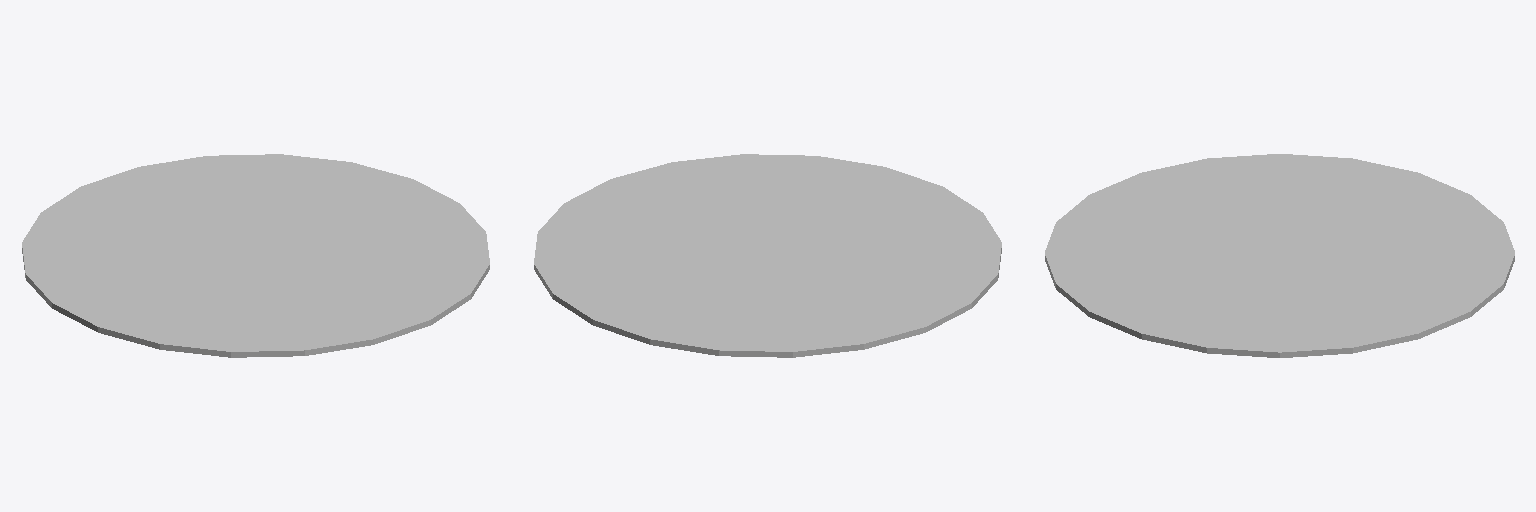
The model's file is InnerGround.obj.
3 views of the same model, side by side, from view 1: azimuth 30°, elevation 25°; view 2: azimuth 150°, elevation 25°; view 3: azimuth 270°, elevation 25° (orthographic).
Parts seen in each view (by area): view 1: InnerGround; view 2: InnerGround; view 3: InnerGround.
Part boxes in pixels (bbox=[...]): InnerGround: bbox=[22, 154, 489, 357]; InnerGround: bbox=[534, 154, 1001, 357]; InnerGround: bbox=[1045, 154, 1514, 357].
Bounding box in the file's own units: 148 × 2 × 148.